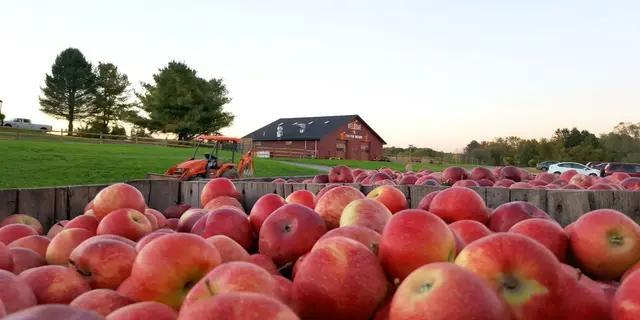apple: (452, 233, 567, 320), (295, 235, 385, 316), (388, 262, 498, 320), (382, 208, 456, 275), (134, 233, 219, 289), (570, 209, 639, 273), (258, 202, 322, 259), (94, 209, 153, 241), (92, 183, 145, 215), (609, 263, 639, 319)
